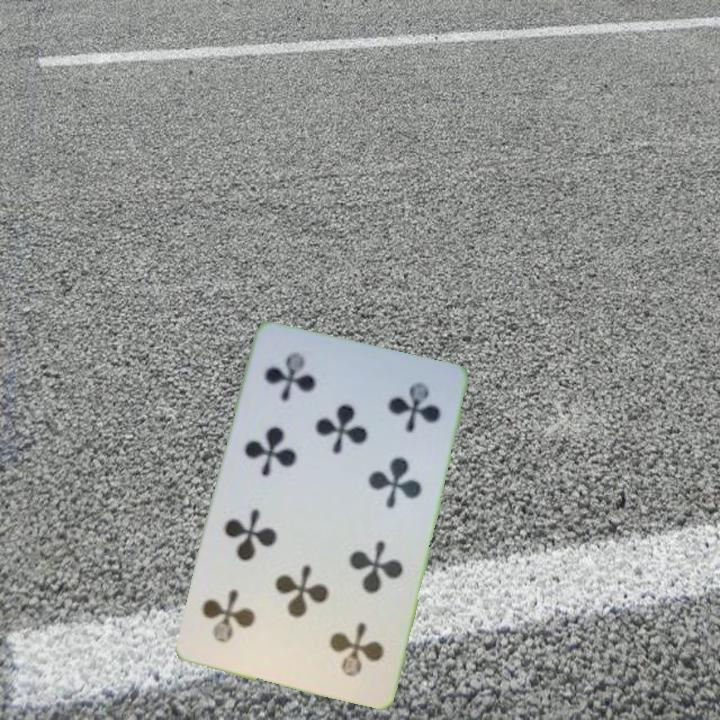c_10.png: (283, 588, 399, 693), (245, 336, 360, 441)
